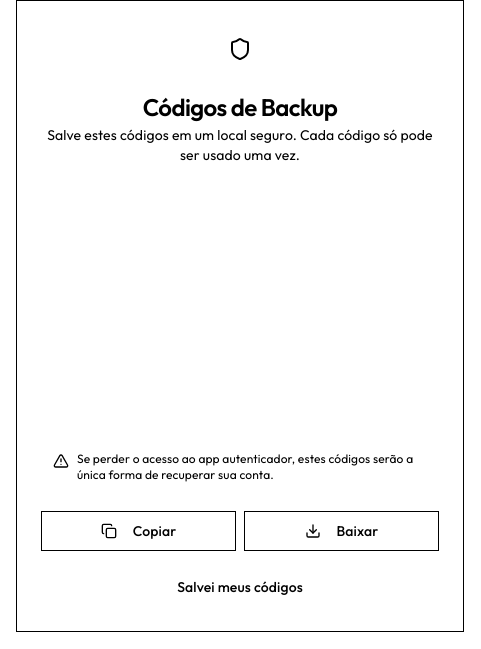
it: MFABackupCodes › Confirmation flow › shows conclude button after confirmation
Click the button "Salvei meus códigos" at (240, 587), box left=41, top=567, right=439, bottom=607
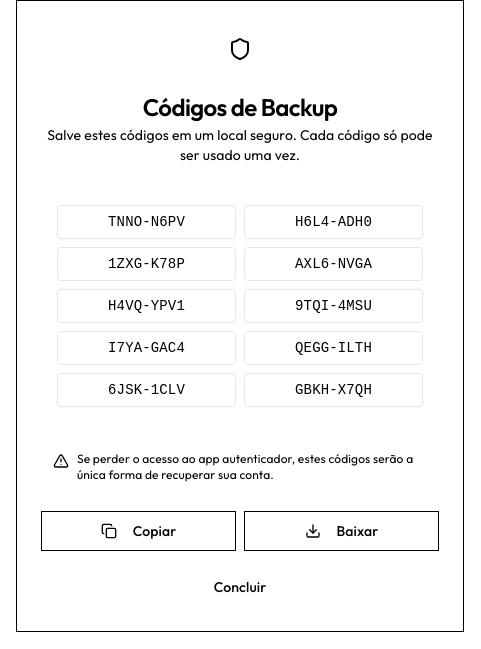
Check: the button "Concluir" is shown, box left=41, top=567, right=439, bottom=607
Check: the button "Salvei meus códigos" is gone
